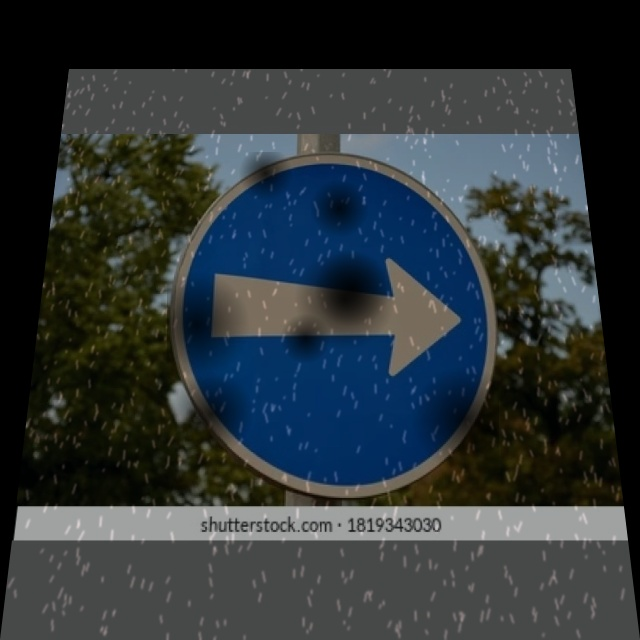Compulsory_Turn_Right: (167, 152, 499, 487)
